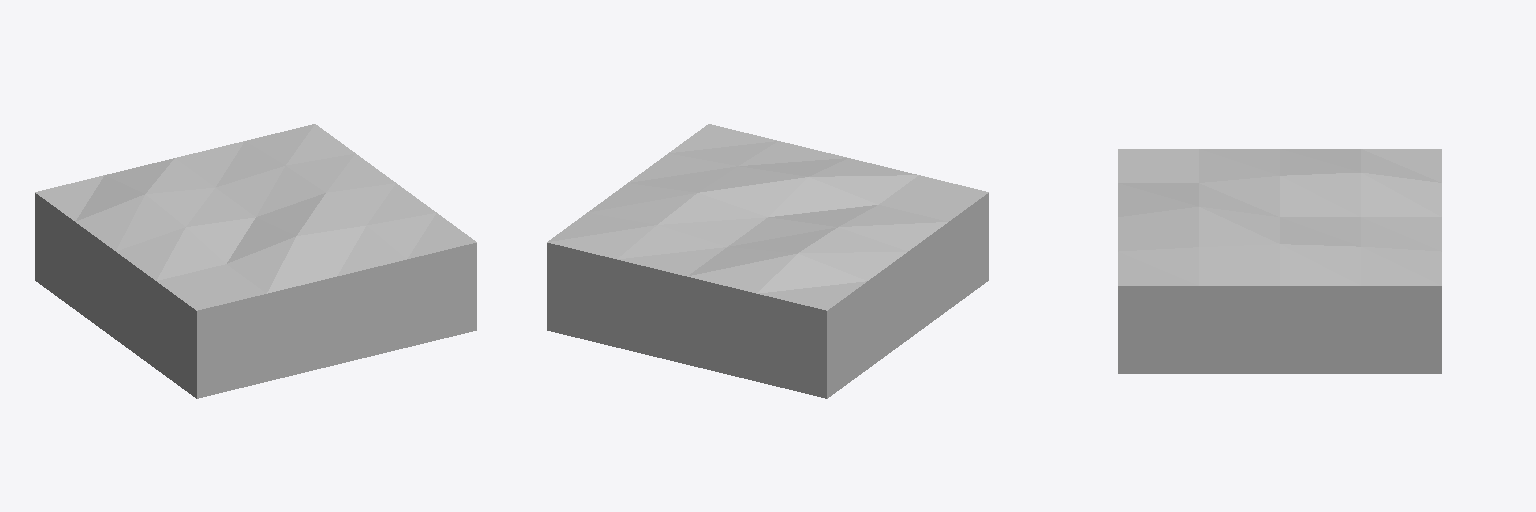
The model's file is Snowtile_1.obj.
3 views of the same model, side by side, from view 1: azimuth 30°, elevation 25°; view 2: azimuth 150°, elevation 25°; view 3: azimuth 270°, elevation 25° (orthographic).
Visible parts, largest first — view 1: Cube; view 2: Cube; view 3: Cube.
Boxes of the visible parts, x1=… form: Cube: x1=35, y1=124, x2=476, y2=398; Cube: x1=547, y1=124, x2=988, y2=398; Cube: x1=1118, y1=149, x2=1441, y2=373.
Bounding box in the file's own units: 2 × 0.673 × 2.